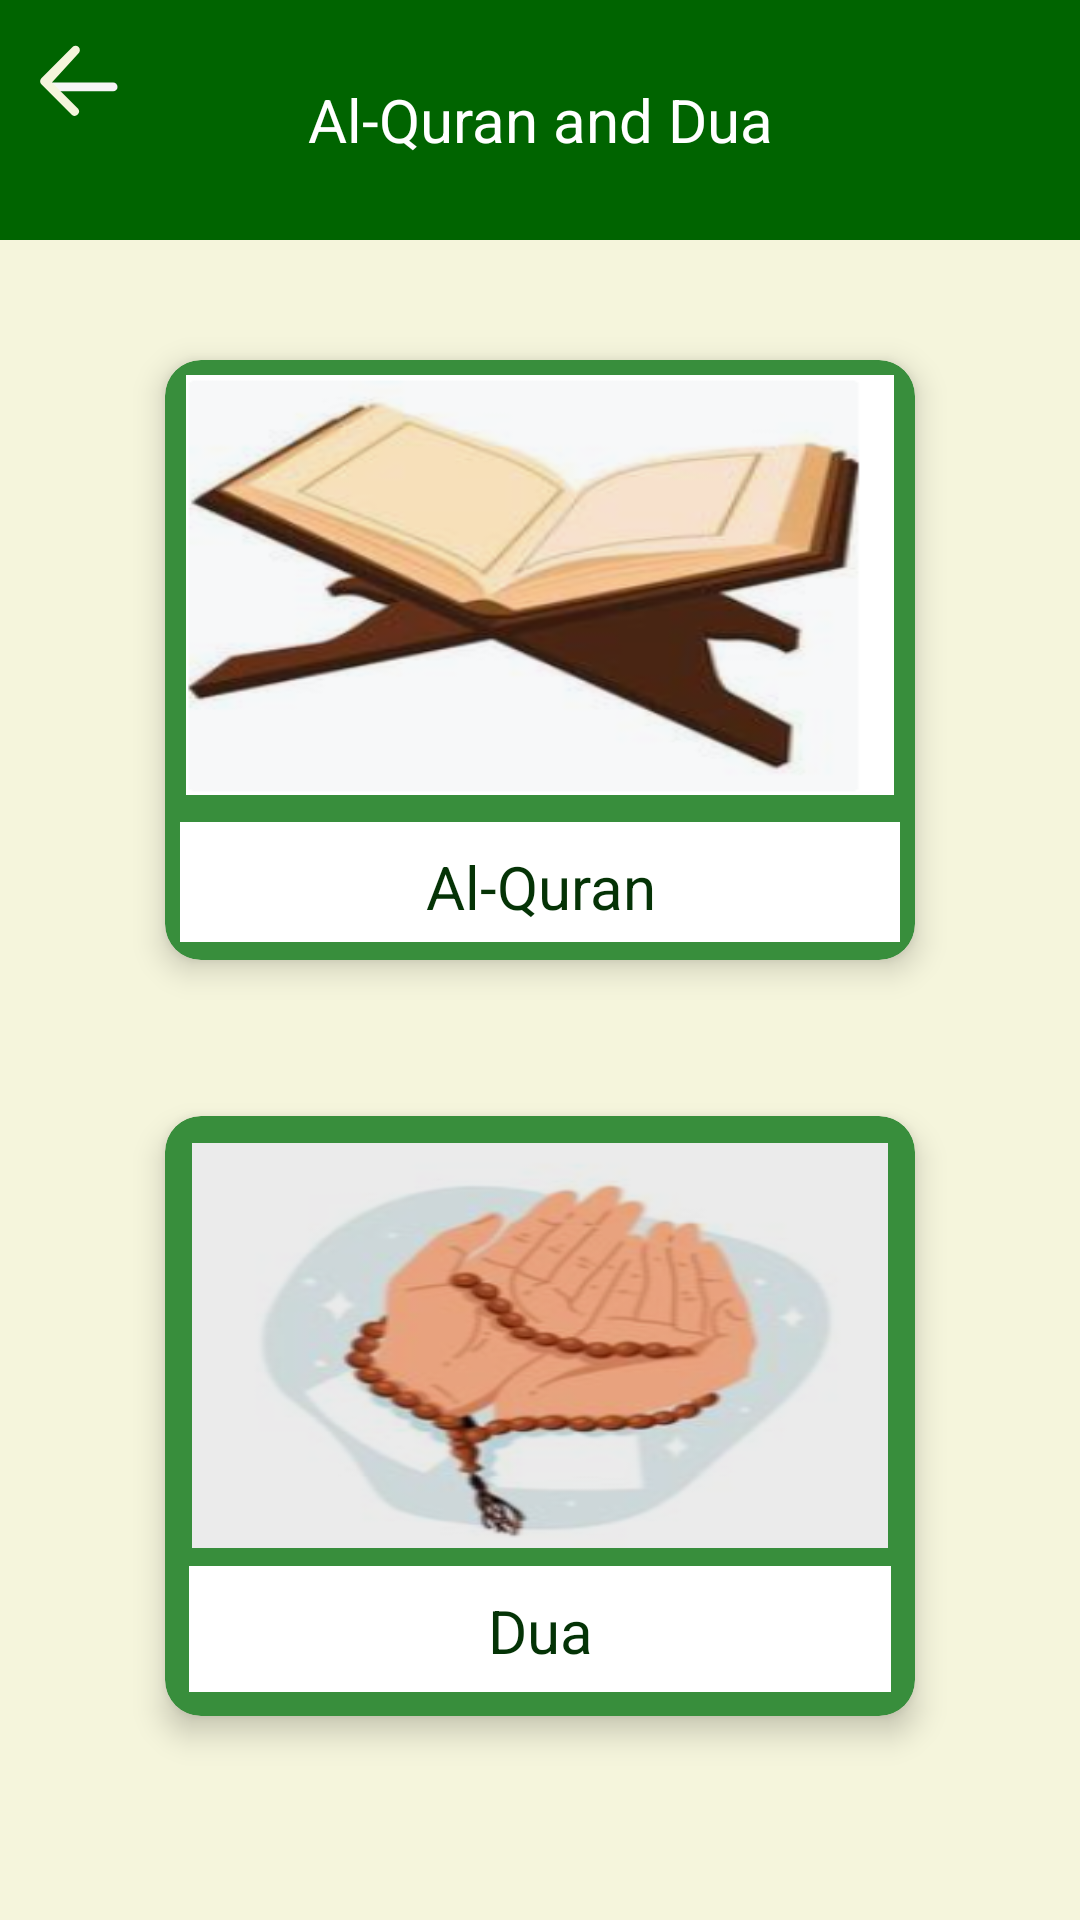

Icon bounding boxes for this 1080w x 1920h phone screenshot, format [x1,y1,x2,y2]:
Back: [40,45,118,116]
